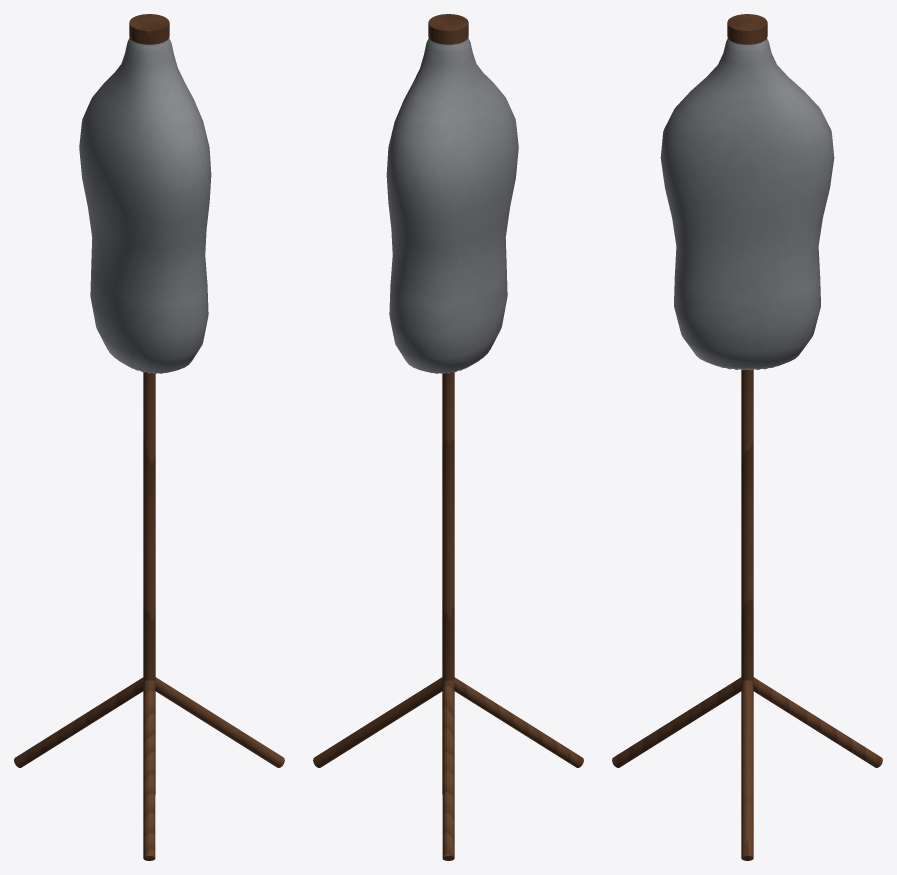
Rendered from grey.glb.
3 renders of one model, left to right at view 1: azimuth 30°, elevation 25°; view 2: azimuth 150°, elevation 25°; view 3: azimuth 270°, elevation 25°, orthographic.
Visible parts, largest first — view 1: fabric_primary_form, wood_z; view 2: fabric_primary_form, wood_z; view 3: fabric_primary_form, wood_z.
Boxes of the visible parts, x1,y1,x2,y2 form: fabric_primary_form: (79, 38, 211, 373); wood_z: (14, 14, 284, 860); fabric_primary_form: (386, 38, 518, 373); wood_z: (313, 14, 583, 860); fabric_primary_form: (660, 38, 834, 370); wood_z: (612, 14, 882, 860).
Size of the model in its own units: 0.4687 by 1.7 by 0.5375.
2 materials, 2 textured.
